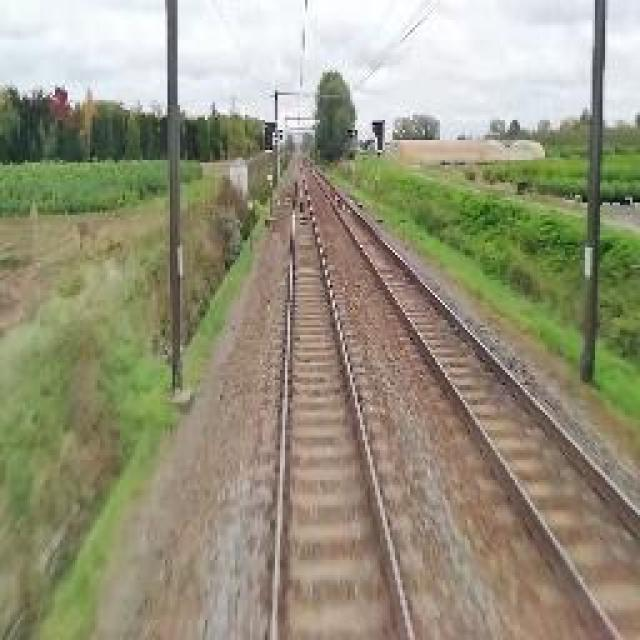rail: (247, 153, 439, 640)
